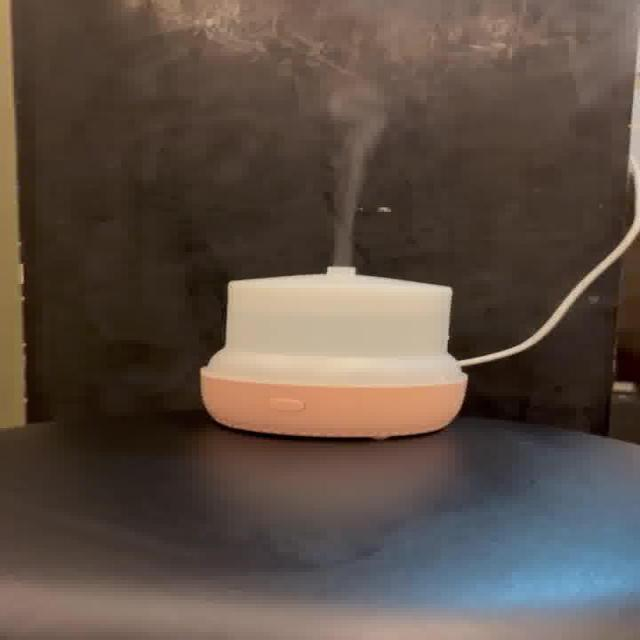fire: (313, 65, 492, 265)
